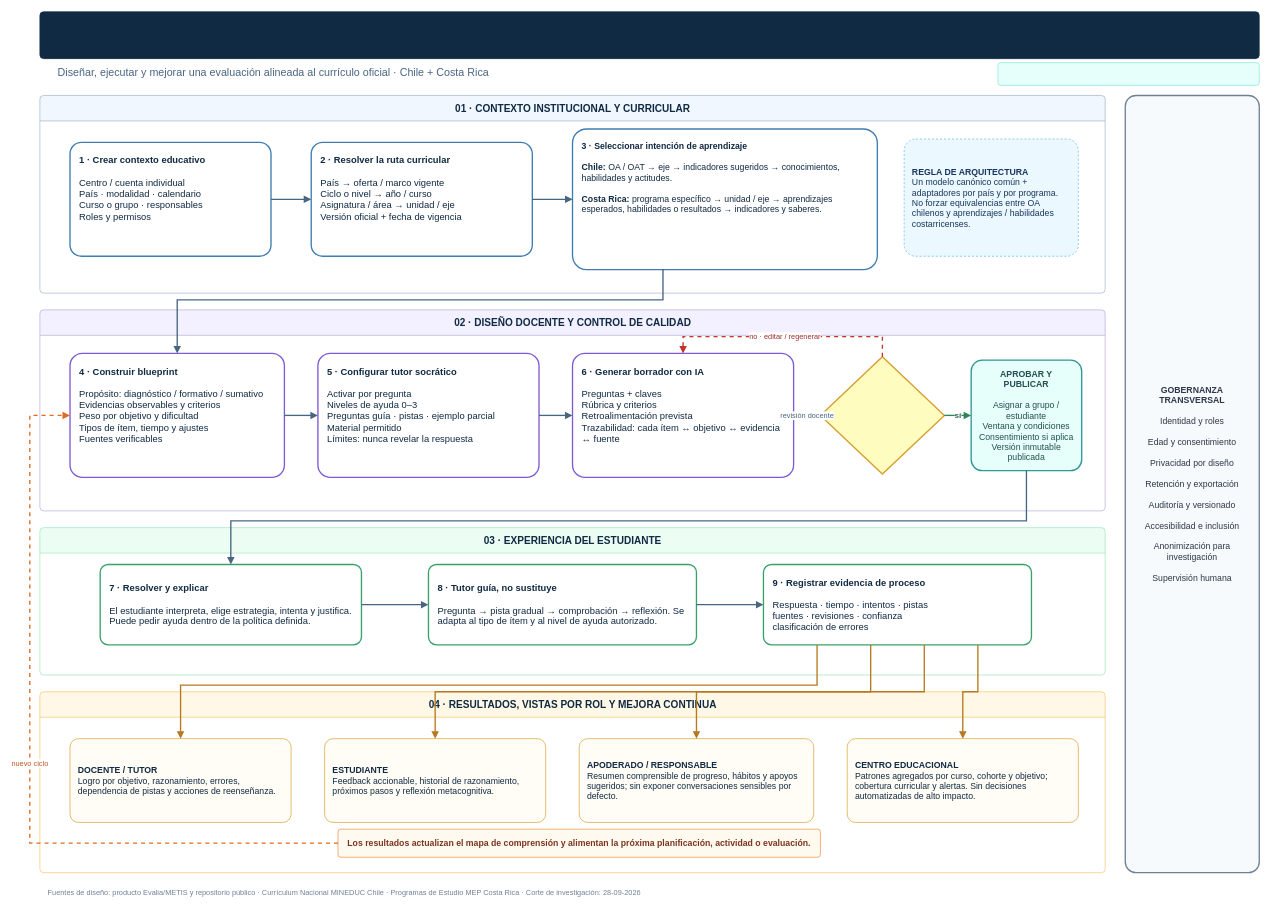
Some shapes in this 1272 by 915 pixel diagram are drawn without their labels. The shapes that lost their labels are listed below. From the top down, each one's centre as x and y in pixels, then its label:
(649,35): EVALIA · FLUJO 01
(1128,73): PRIMER FLUJO DE PRODUCTO · El docente conserva el control editorial y pedagógico
(882,415): ¿Cumple alineación, calidad, accesibilidad y política de ayuda?
